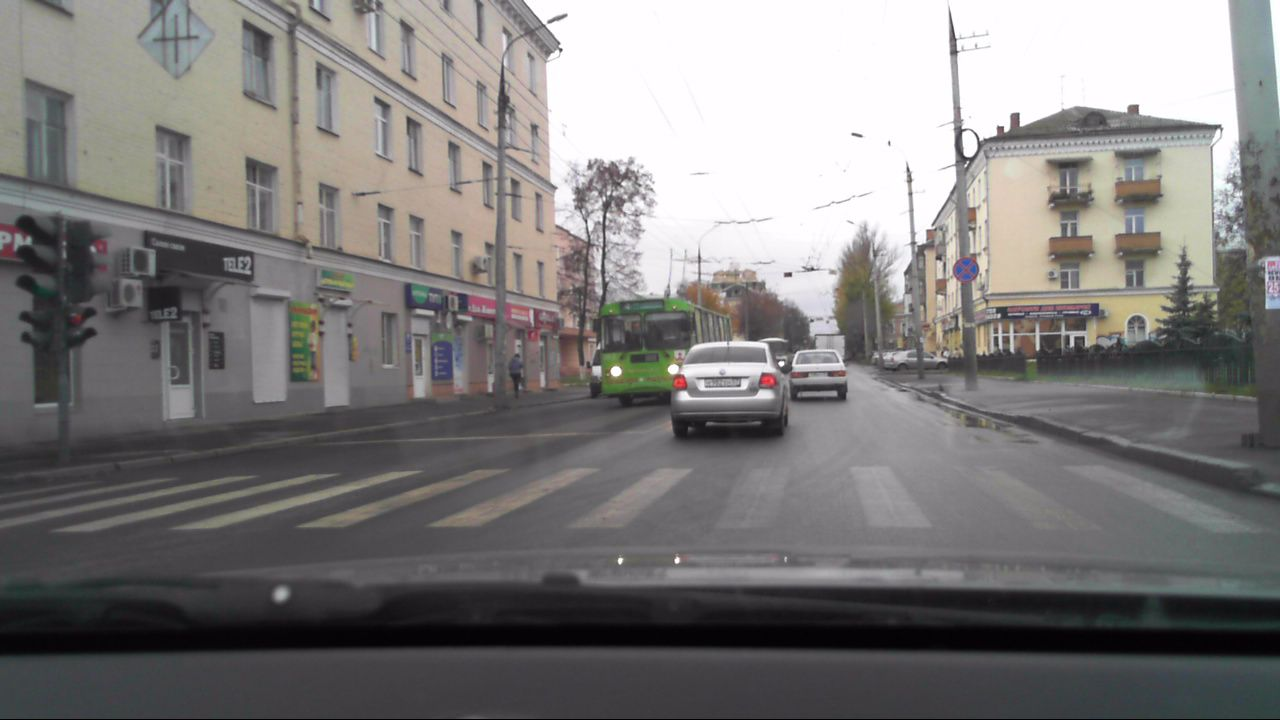No Parking: (951, 256, 980, 285)
